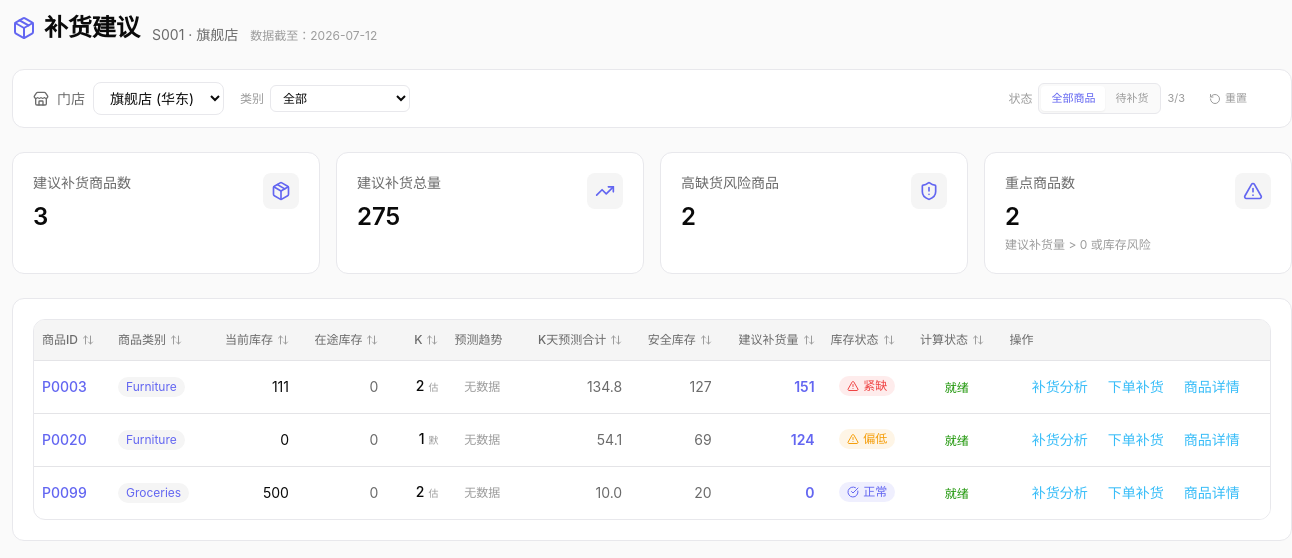
Test: ReplenishmentPage › 快速筛选：全部商品 / 待补货
Check: the number of buttons "下单补货" is 3, box [1100, 370, 1172, 402]; [1100, 424, 1172, 456]; [1100, 476, 1172, 508]
Click the button "待补货". click: (1132,99)
box: [1105, 86, 1158, 111]
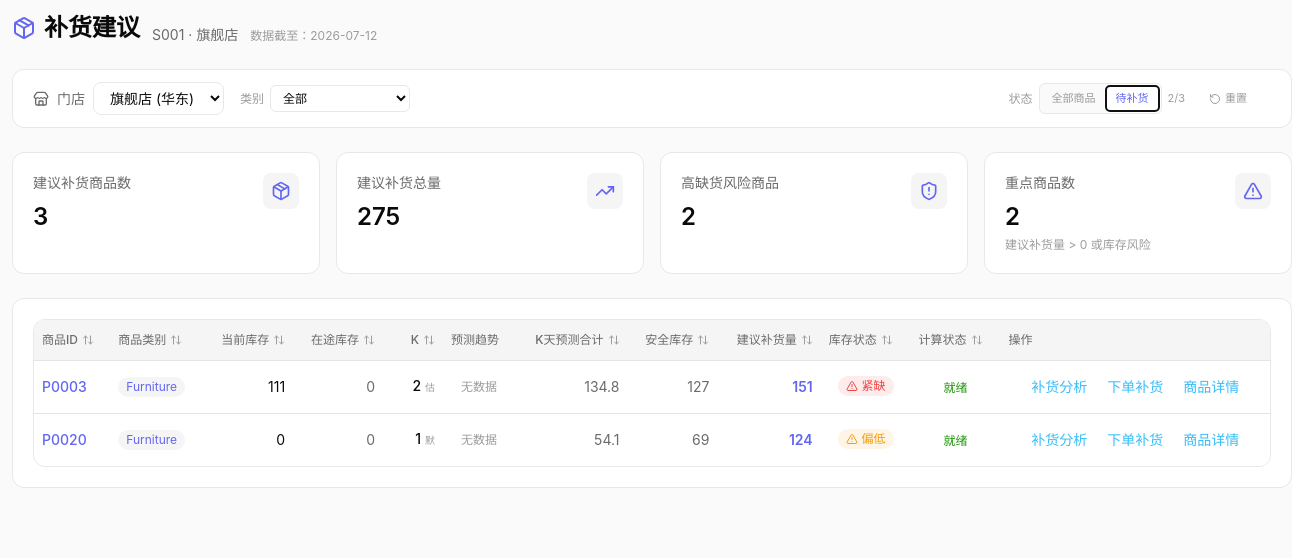
Check: the number of buttons "下单补货" is 2, box [1099, 370, 1171, 402]; [1099, 424, 1171, 456]
Click the button "全部商品". click: (1074,99)
box: [1042, 86, 1106, 111]
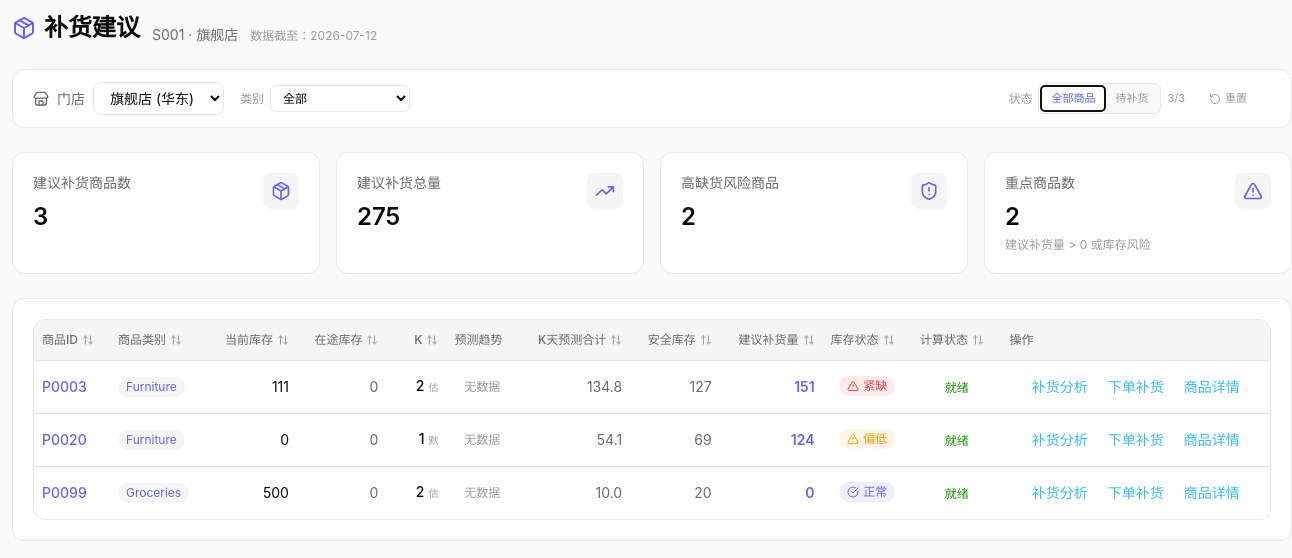
Check: the number of buttons "下单补货" is 3, box [1100, 370, 1172, 402]; [1100, 424, 1172, 456]; [1100, 476, 1172, 508]
